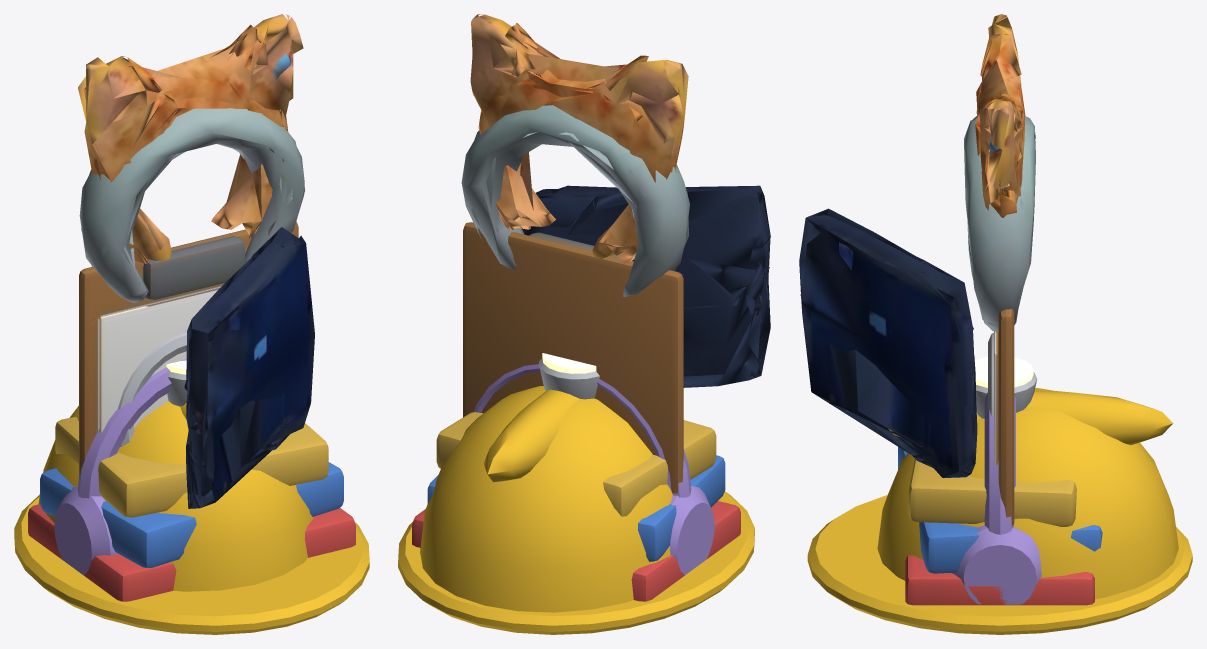
Rendered from accessories.d9b2a350.glb.
3 views of the same model, side by side, from view 1: azimuth 30°, elevation 25°; view 2: azimuth 150°, elevation 25°; view 3: azimuth 270°, elevation 25° (orthographic). The views are drawn at different scales.
Visible parts, largest first — view 1: hard-hat, advisor-chart-tablet, advisor-cat-ears, book-stack, advisor-antenna-band, clipboard, headphones, magnifier, flashlight; view 2: hard-hat, clipboard, advisor-cat-ears, advisor-chart-tablet, advisor-antenna-band, book-stack, headphones, flashlight; view 3: hard-hat, advisor-chart-tablet, book-stack, advisor-antenna-band, advisor-cat-ears, headphones, clipboard, flashlight.
Boxes of the visible parts, x1,y1,x2,y2 form: hard-hat: (14,401,369,634); advisor-chart-tablet: (184,227,314,508); advisor-cat-ears: (78,14,303,263); book-stack: (28,416,355,601); advisor-antenna-band: (79,53,305,302); clipboard: (79,221,298,477); headphones: (54,359,186,575); magnifier: (118,332,186,446); flashlight: (166,360,187,406); hard-hat: (398,386,754,634); clipboard: (463,222,683,493); advisor-cat-ears: (470,14,688,263); advisor-chart-tablet: (522,185,770,387); advisor-antenna-band: (461,73,689,296); book-stack: (412,412,740,601); headphones: (474,364,714,574); flashlight: (538,353,599,399); hard-hat: (807,388,1192,634); advisor-chart-tablet: (799,208,977,477); book-stack: (898,447,1102,605); advisor-antenna-band: (964,115,1035,331); advisor-cat-ears: (975,14,1025,217); headphones: (951,392,1041,604); clipboard: (994,309,1014,525); flashlight: (974,356,1036,418).
Bounding box in the file's own units: 0.3 × 0.5009 × 0.3526.
Materials: 21 (4 with a texture image).
